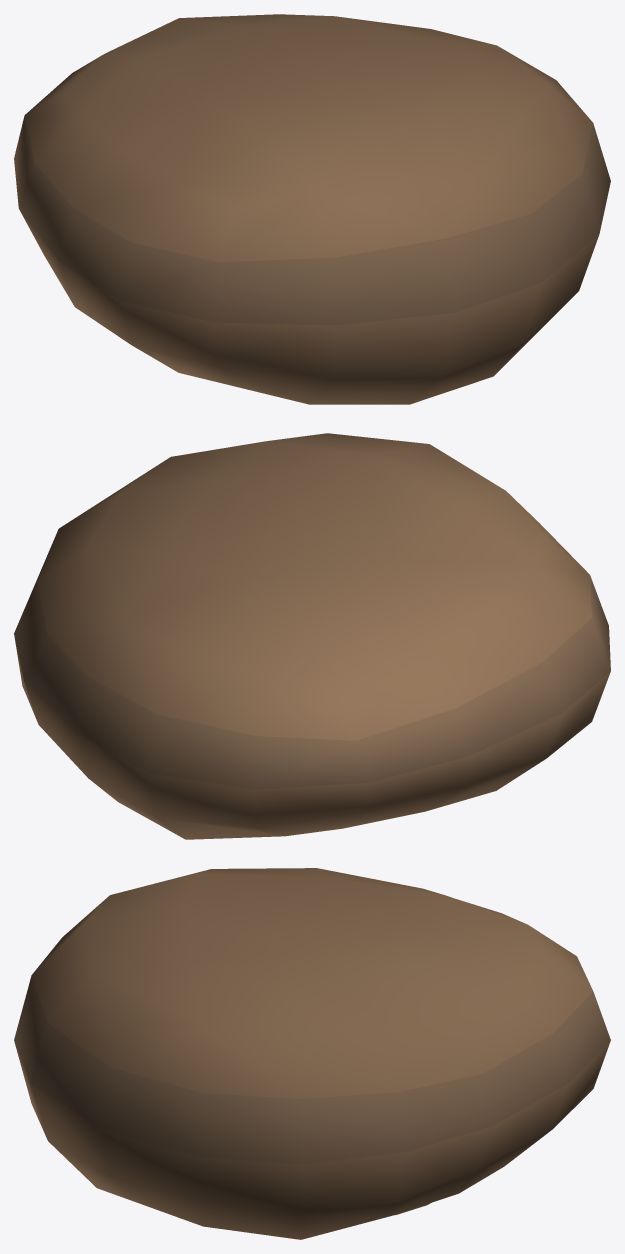
File: SandstonePebble.003.glb
The picture shows the model from 3 angles, top to bottom: view 1: azimuth 30°, elevation 25°; view 2: azimuth 150°, elevation 25°; view 3: azimuth 270°, elevation 25°; orthographic projection. The views are drawn at different scales.
Visible parts, largest first — view 1: SandstonePebble.003; view 2: SandstonePebble.003; view 3: SandstonePebble.003.
Part boxes in pixels (x1,y1,x2,y2): SandstonePebble.003: [14, 14, 610, 404]; SandstonePebble.003: [14, 433, 610, 839]; SandstonePebble.003: [14, 868, 610, 1239].
Bounding box in the file's own units: 12.34 × 6.76 × 13.05.
